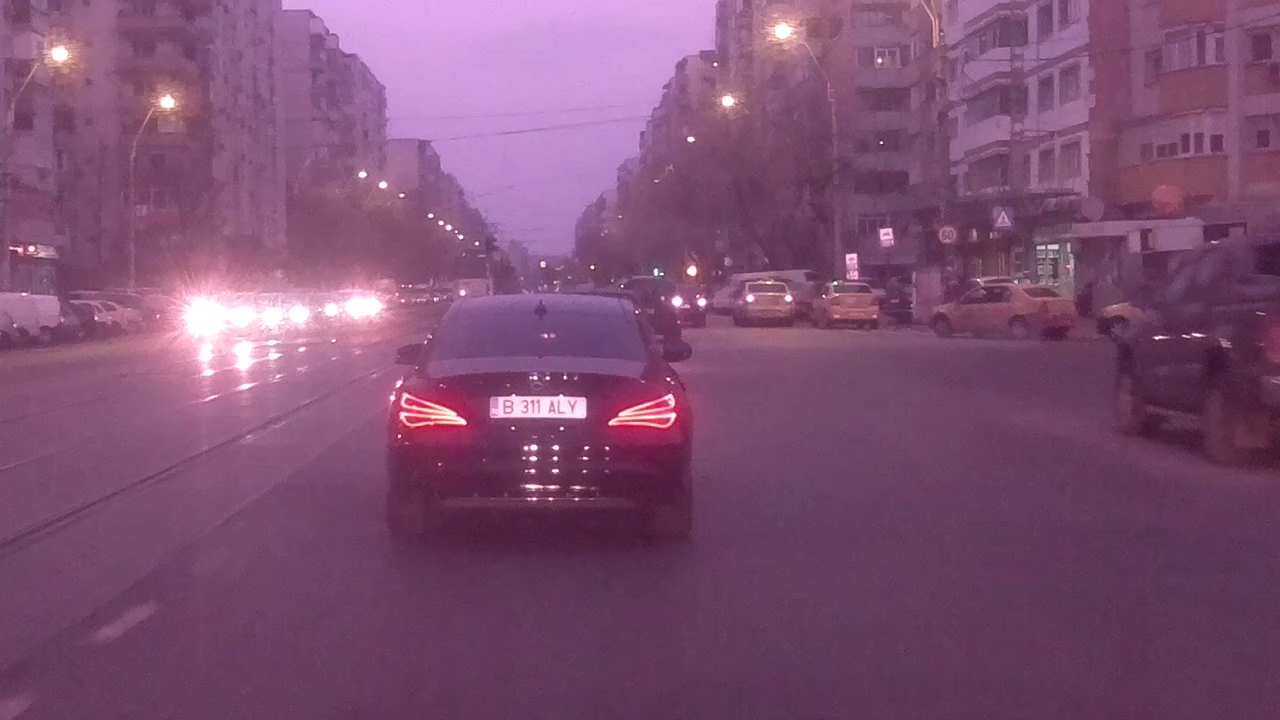license-plate: (485, 392, 590, 421)
